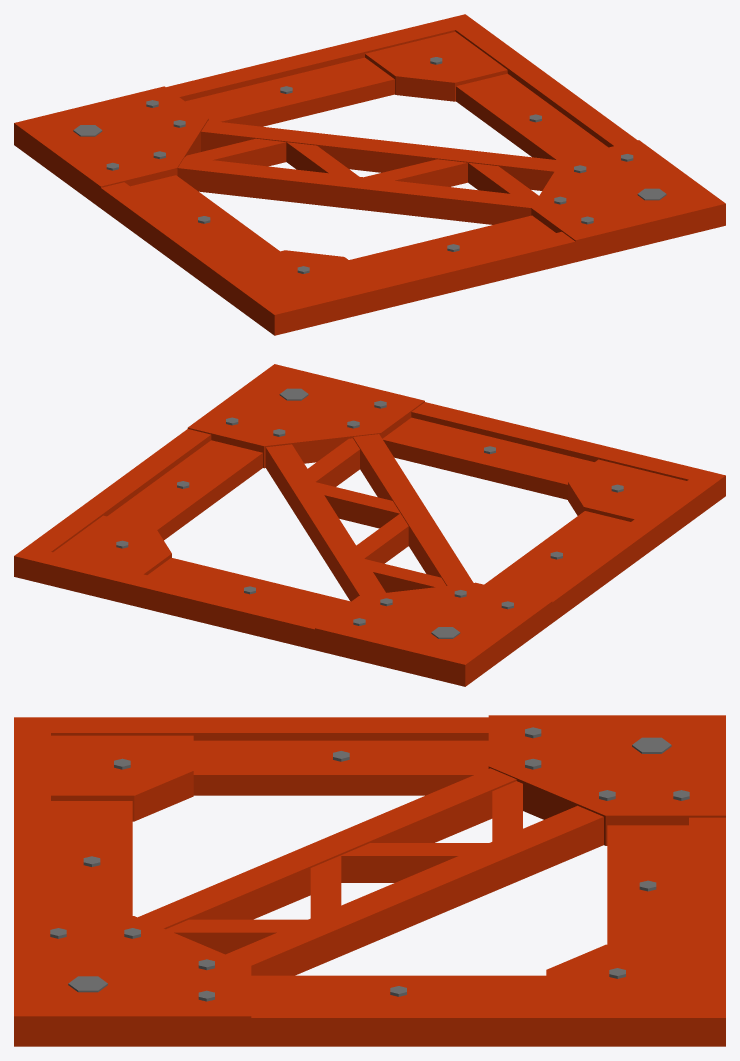
The model's file is Prop_Industrial_Beams_Brace_Half_02.FBX.
The picture shows the model from 3 angles, top to bottom: view 1: azimuth 30°, elevation 25°; view 2: azimuth 150°, elevation 25°; view 3: azimuth 270°, elevation 25°; orthographic projection. The views are drawn at different scales.
Visible parts, largest first — view 1: Prop_Industrial_Beams_Brace_Half_02; view 2: Prop_Industrial_Beams_Brace_Half_02; view 3: Prop_Industrial_Beams_Brace_Half_02.
Boxes of the visible parts, <box> form: Prop_Industrial_Beams_Brace_Half_02: <box>14,14,725,335</box>; Prop_Industrial_Beams_Brace_Half_02: <box>14,364,725,686</box>; Prop_Industrial_Beams_Brace_Half_02: <box>14,715,725,1046</box>.
Size of the model in its own units: 3000 by 154 by 3000.
